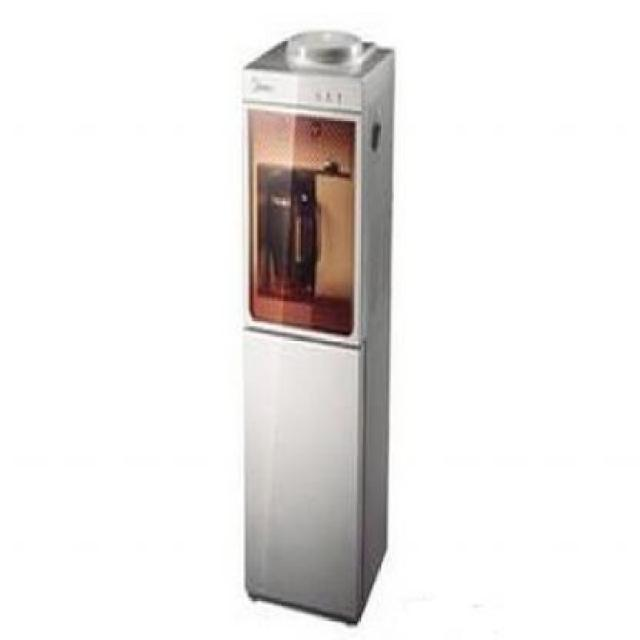cooler: (238, 26, 398, 624)
